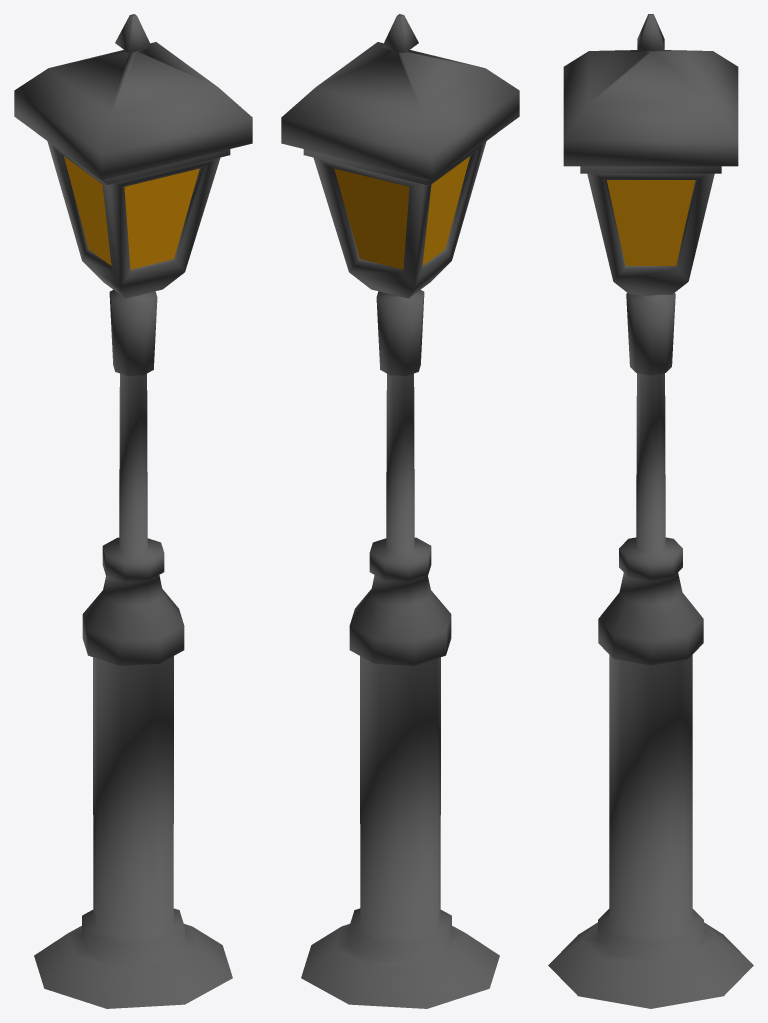
File: StreetLamp_LowPolyV2.fbx
3 renders of one model, left to right at view 1: azimuth 30°, elevation 25°; view 2: azimuth 150°, elevation 25°; view 3: azimuth 270°, elevation 25°, orthographic.
Visible parts, largest first — view 1: StreetLamp_LowPoly, StreetLamp_Light_LowPoly; view 2: StreetLamp_LowPoly, StreetLamp_Light_LowPoly; view 3: StreetLamp_LowPoly, StreetLamp_Light_LowPoly.
Part boxes in pixels (x1,y1,x2,y2): StreetLamp_LowPoly: (14,14,252,1008); StreetLamp_Light_LowPoly: (64,156,199,269); StreetLamp_LowPoly: (281,14,519,1008); StreetLamp_Light_LowPoly: (334,156,469,269); StreetLamp_LowPoly: (548,14,753,1008); StreetLamp_Light_LowPoly: (606,180,695,265).
Size of the model in its own units: 41.91 by 214 by 41.91.
